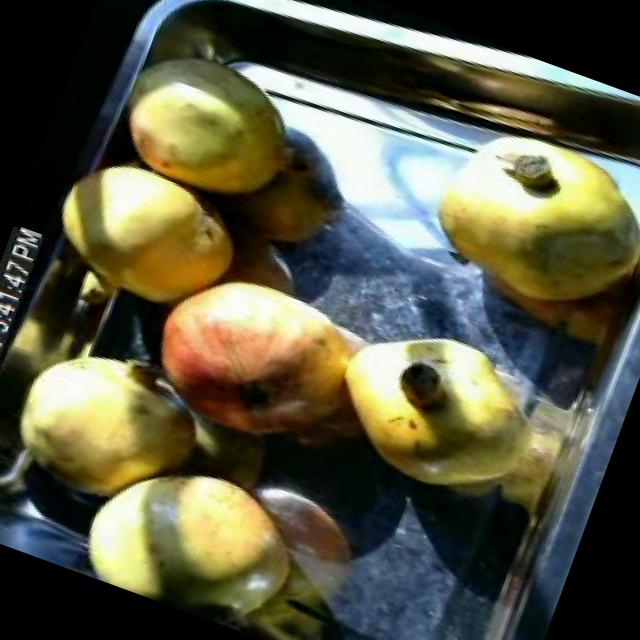fruit: (120, 225, 400, 482), (57, 422, 337, 640), (300, 290, 564, 520), (406, 100, 640, 341), (0, 312, 234, 542), (103, 13, 341, 224), (29, 140, 268, 347)
